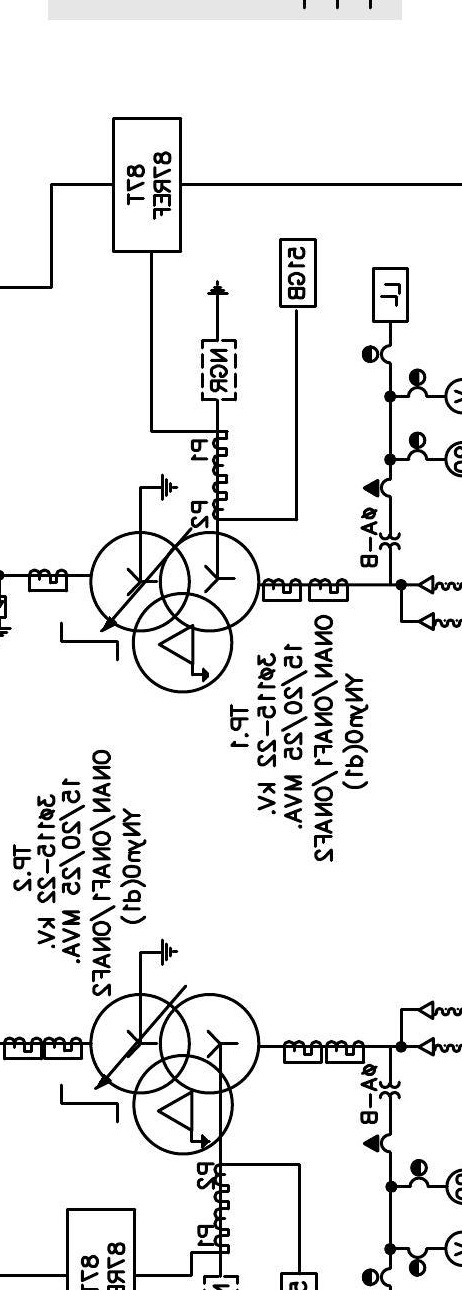11522_tx_ynyn0d1: (88, 530, 262, 695), (88, 992, 262, 1157)
LL: (371, 266, 409, 324)
NGR_future: (200, 280, 238, 402)
terminator_double: (399, 574, 435, 632), (399, 1000, 435, 1057)
